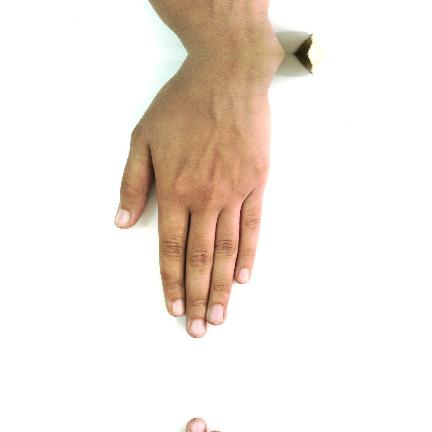Nail: (209, 304, 224, 325), (190, 319, 206, 338), (114, 208, 130, 226), (171, 299, 185, 317), (190, 418, 206, 432), (237, 268, 250, 284), (215, 431, 219, 432)
